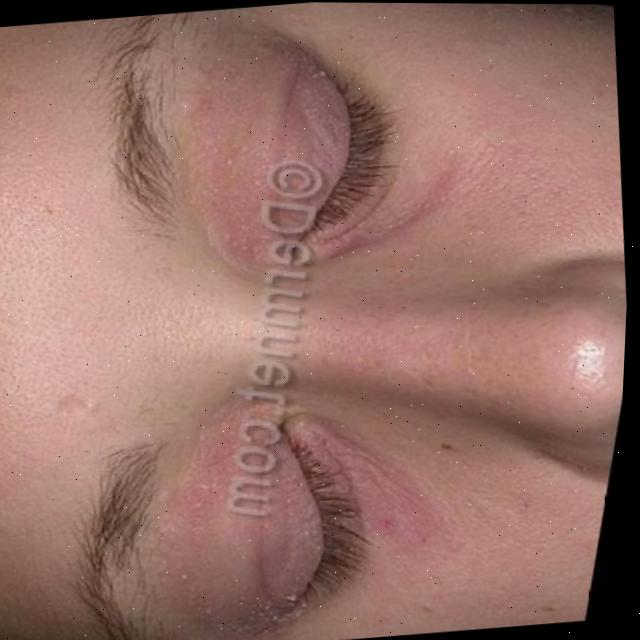Eczema: (167, 31, 391, 297), (174, 420, 383, 640)
